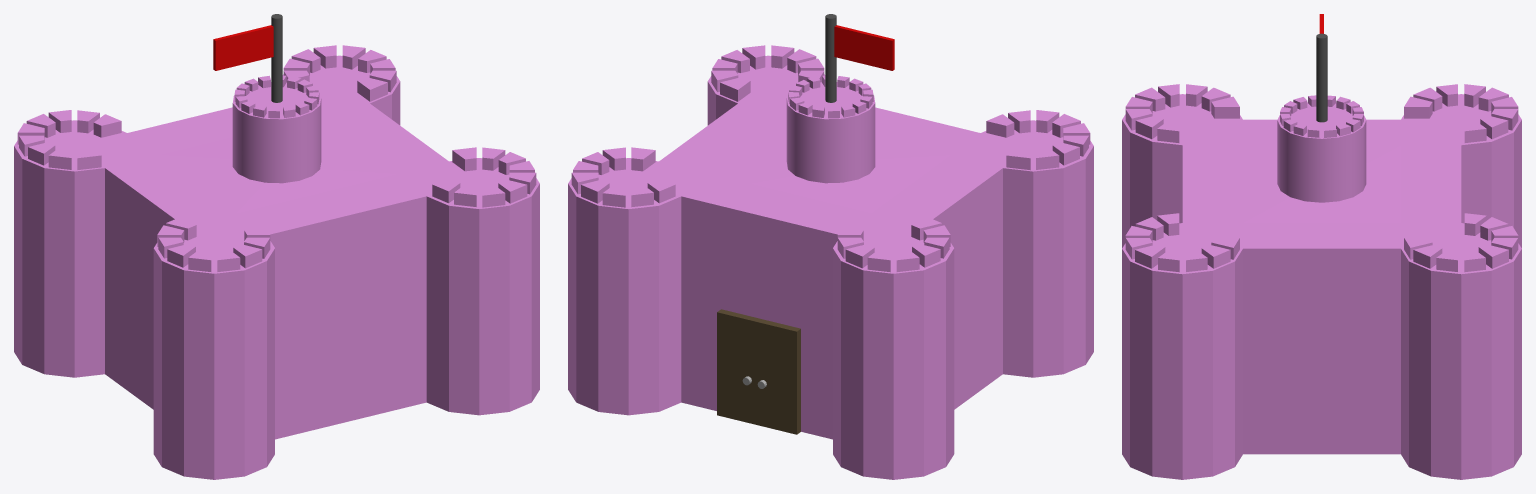
The model's file is Castillo.fbx.
3 views of the same model, side by side, from view 1: azimuth 30°, elevation 25°; view 2: azimuth 150°, elevation 25°; view 3: azimuth 270°, elevation 25° (orthographic).
Visible parts, largest first — view 1: Castillo; view 2: Castillo; view 3: Castillo.
Part boxes in pixels (box(x1,y1,x2,y2)): Castillo: box(14, 14, 539, 479); Castillo: box(568, 14, 1093, 479); Castillo: box(1122, 14, 1521, 479).
Size of the model in its own units: 53.97 by 49.43 by 50.63.
